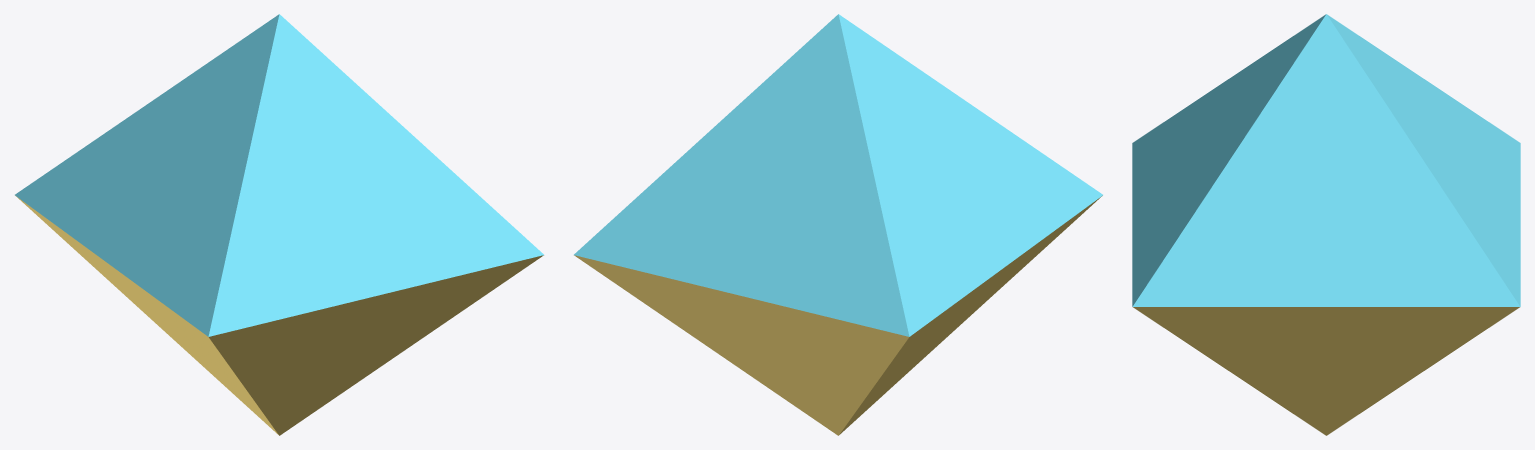
Rendered from gem.glb.
3 renders of one model, left to right at view 1: azimuth 30°, elevation 25°; view 2: azimuth 150°, elevation 25°; view 3: azimuth 270°, elevation 25°, orthographic.
Visible parts, largest first — view 1: Gem; view 2: Gem; view 3: Gem.
Part boxes in pixels (<box>): Gem: <box>15,14,543,435</box>; Gem: <box>574,14,1102,435</box>; Gem: <box>1132,14,1520,435</box>.
Bounding box in the file's own units: 1 × 1.2 × 1.
